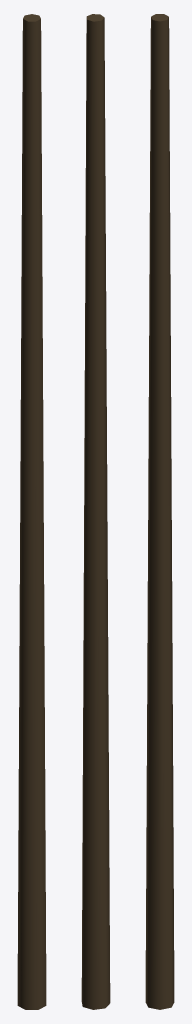
3 views of the same model, side by side, from view 1: azimuth 90°, elevation 25°; view 2: azimuth 210°, elevation 25°; view 3: azimuth 270°, elevation 25° (orthographic).
Visible parts, largest first — view 1: SketchUp; view 2: SketchUp; view 3: SketchUp.
Boxes of the visible parts, x1,y1,x2,y2 form: SketchUp: [17, 19, 46, 1009]; SketchUp: [81, 18, 110, 1009]; SketchUp: [145, 17, 174, 1009].
Size of the model in its own units: 20.53 by 21.06 by 793.
